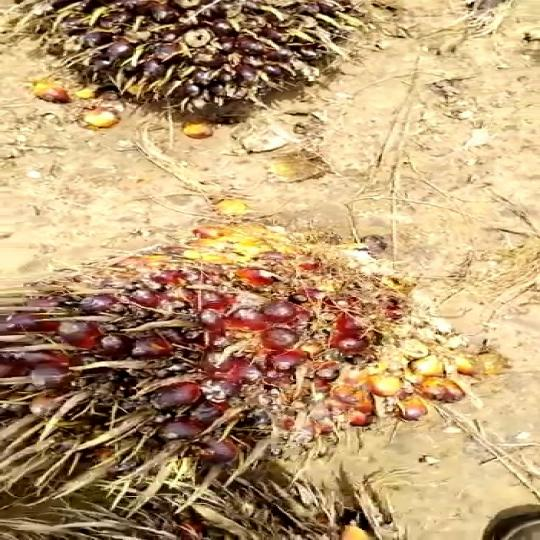masak: (0, 236, 481, 469)
